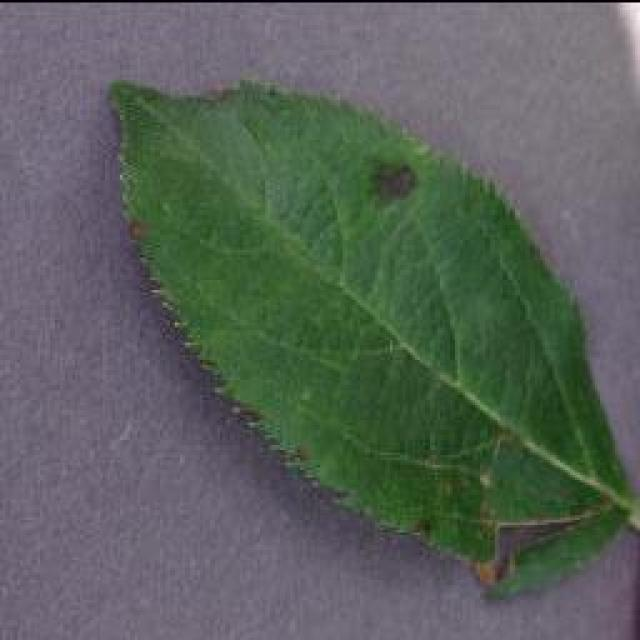apple scab disease: (105, 72, 637, 600)
